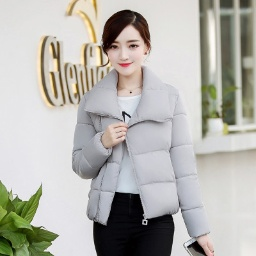face: (97, 4, 158, 80)
